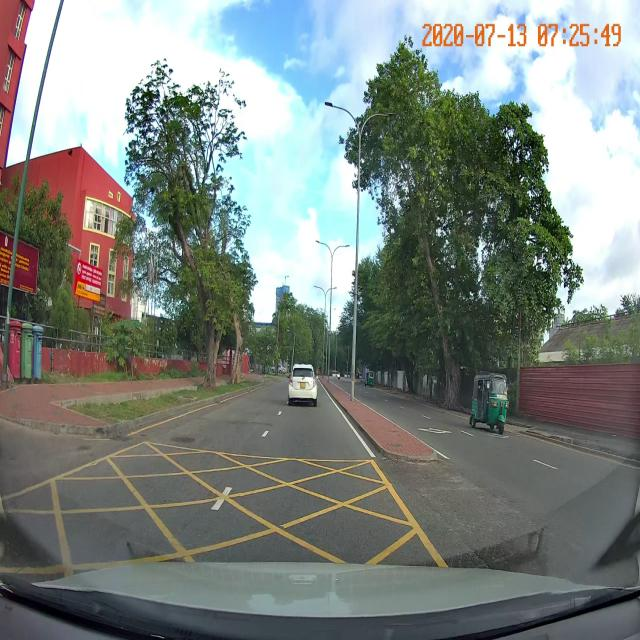Jeltaya razmetka: (1, 435, 458, 589)
